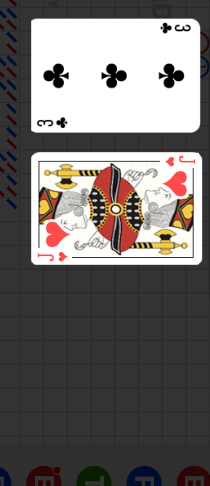3C: (157, 22, 192, 36)
JH: (36, 250, 69, 264)
